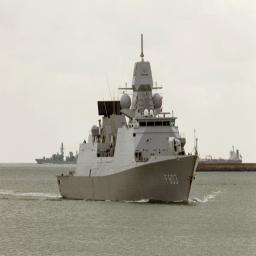Fragata: (55, 32, 202, 210)
